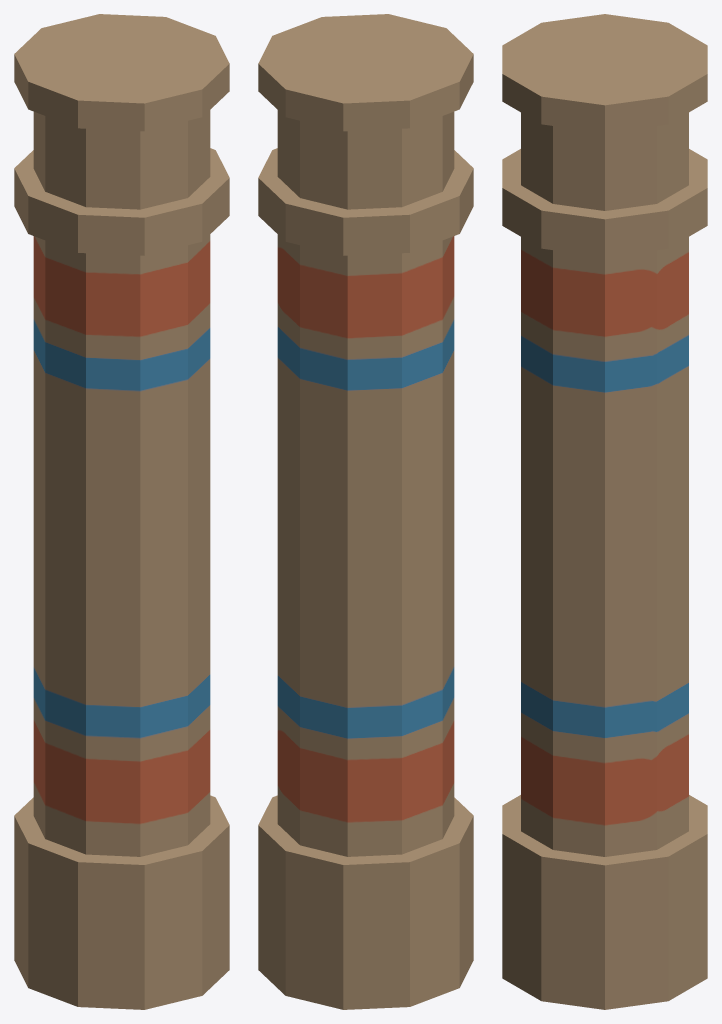
File: 3D_obstacle_column_paintings_02.fbx
3 renders of one model, left to right at view 1: azimuth 30°, elevation 25°; view 2: azimuth 150°, elevation 25°; view 3: azimuth 270°, elevation 25°, orthographic.
Visible parts, largest first — view 1: SM_colomn_paintings_02; view 2: SM_colomn_paintings_02; view 3: SM_colomn_paintings_02.
Part boxes in pixels (x1=…): SM_colomn_paintings_02: x1=14, y1=14, x2=229, y2=1009; SM_colomn_paintings_02: x1=258, y1=14, x2=473, y2=1009; SM_colomn_paintings_02: x1=502, y1=14, x2=707, y2=1009.
Bounding box in the file's own units: 84 × 388 × 79.89.
Materials: 1 (1 with a texture image).
